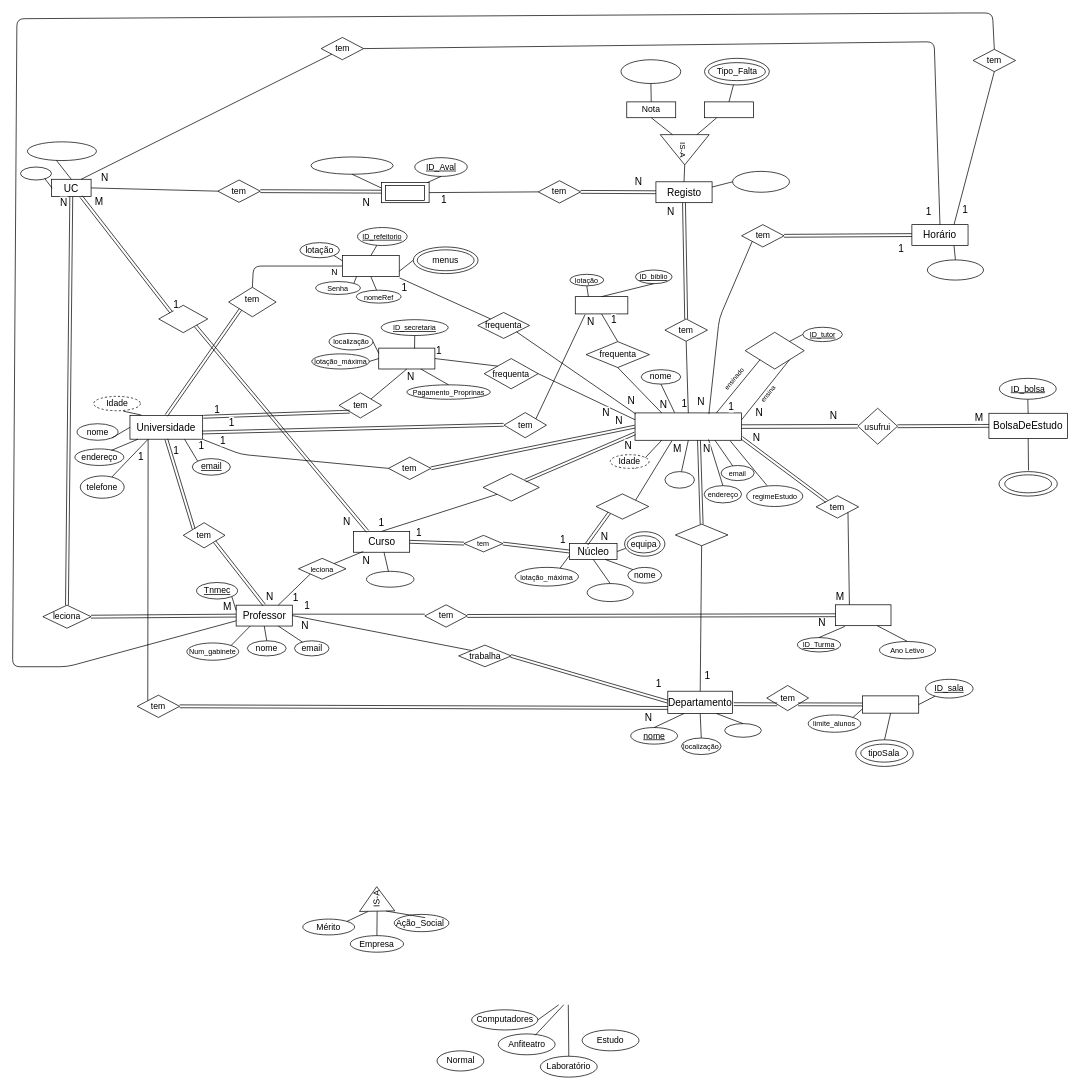
Some shapes in this 1080 by 1089 pixel diagram are drawn without their labels. The box of each missing label's shape, as (x1, y1, x2, y2) in pixels:
Aluno: (634, 412, 742, 440)
ano_fundação: (27, 141, 96, 161)
associa: (675, 523, 728, 546)
Avaliação: (381, 182, 429, 203)
Biblioteca: (575, 296, 628, 314)
classificação: (620, 59, 681, 84)
dep_ID: (724, 723, 761, 737)
Designação: (1004, 474, 1052, 493)
Falta: (704, 101, 753, 118)
formado: (158, 305, 208, 333)
ID_Curso: (366, 571, 414, 587)
ID_Horario: (927, 259, 984, 280)
ID_Nucleo: (586, 583, 633, 602)
ID_Registo: (732, 171, 789, 192)
ID_UC: (20, 166, 51, 180)
matricula: (482, 473, 539, 501)
Nmec: (664, 471, 694, 488)
Percentagem_Final: (310, 156, 393, 174)
pertence: (595, 493, 649, 519)
Refeitório: (342, 255, 399, 276)
Sala: (862, 695, 919, 713)
Secretaria: (378, 347, 435, 369)
Turma: (835, 604, 891, 626)
Tutor: (744, 332, 804, 369)
